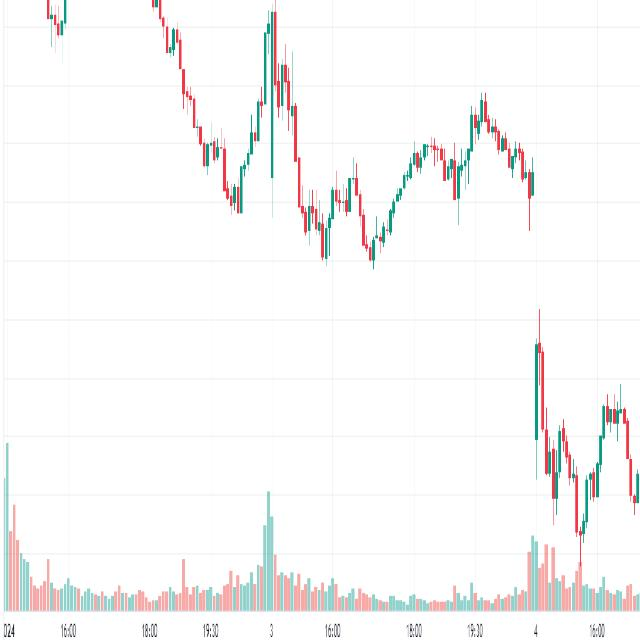Double-Bottom: (535, 315, 609, 551)
Double-Top: (321, 156, 371, 280)
Falling-Wedge: (224, 0, 393, 298)
Head-Shoulders: (232, 0, 308, 256)
